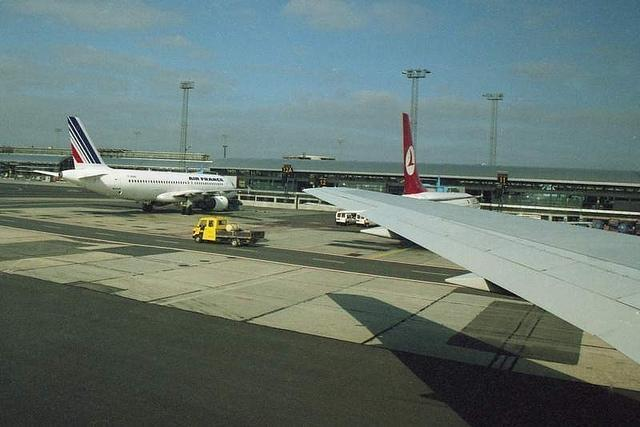truck: (192, 218, 264, 247)
